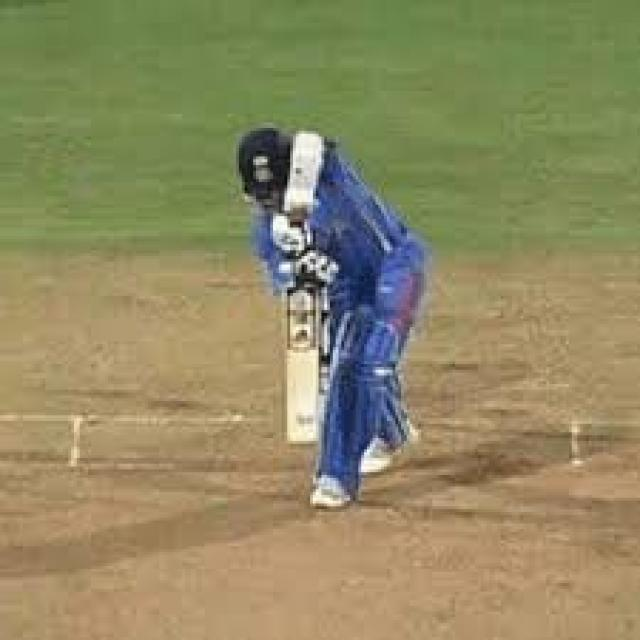toe: (277, 393, 331, 454)
